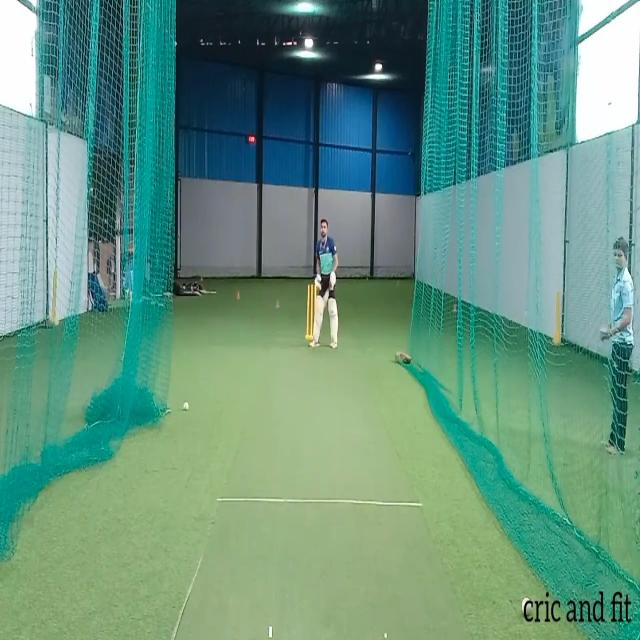batsman: (308, 217, 340, 350)
